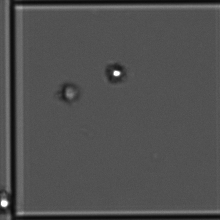Living Cell: (106, 59, 133, 88), (58, 77, 82, 105), (1, 189, 10, 217)
